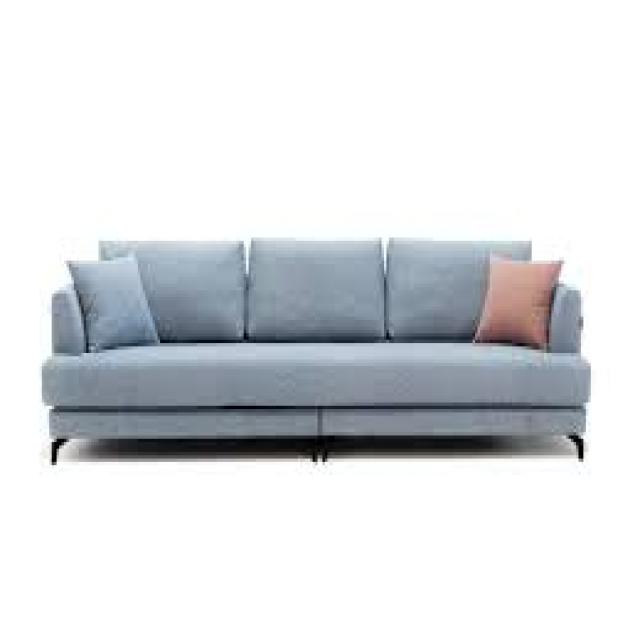Sofa: (31, 198, 624, 492)
